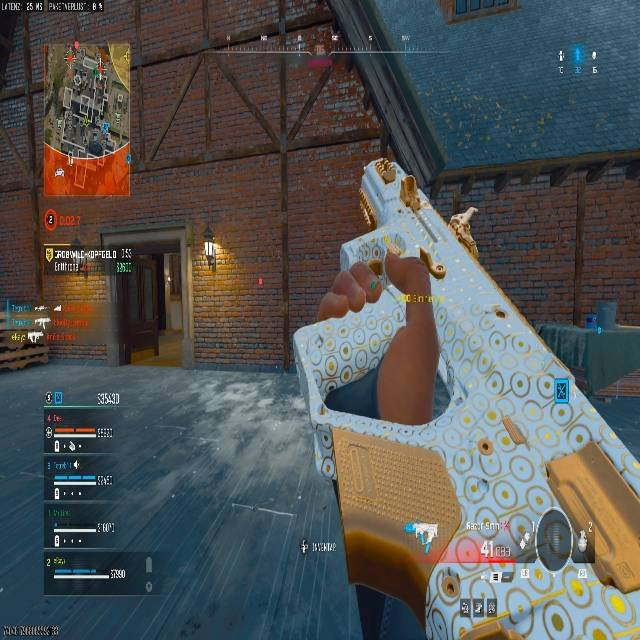head: (358, 158, 400, 224), (359, 154, 396, 187)
player: (294, 151, 479, 424), (314, 156, 447, 321)
